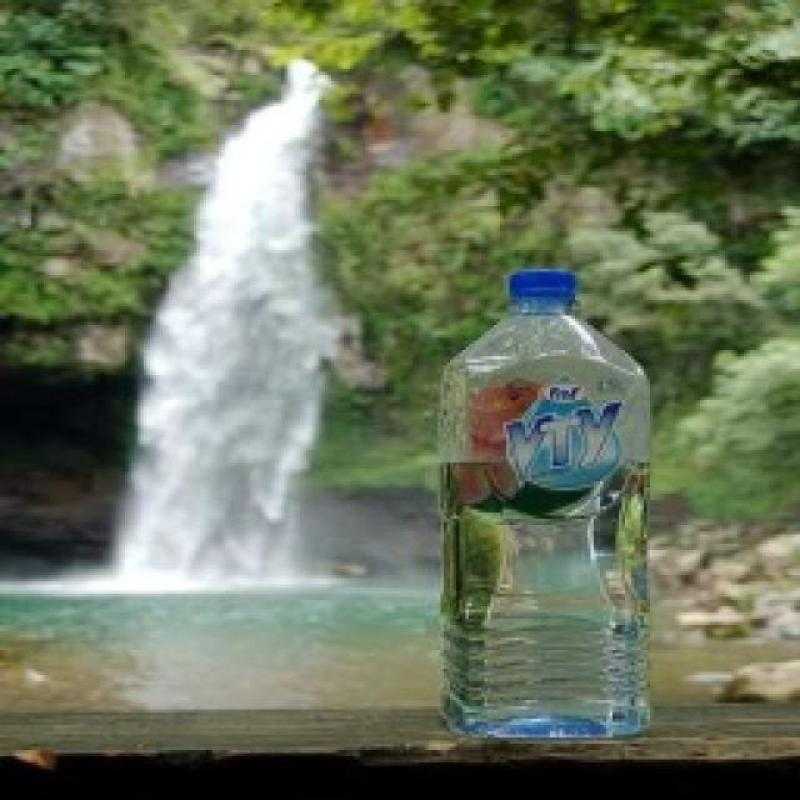botella: (442, 272, 658, 738)
